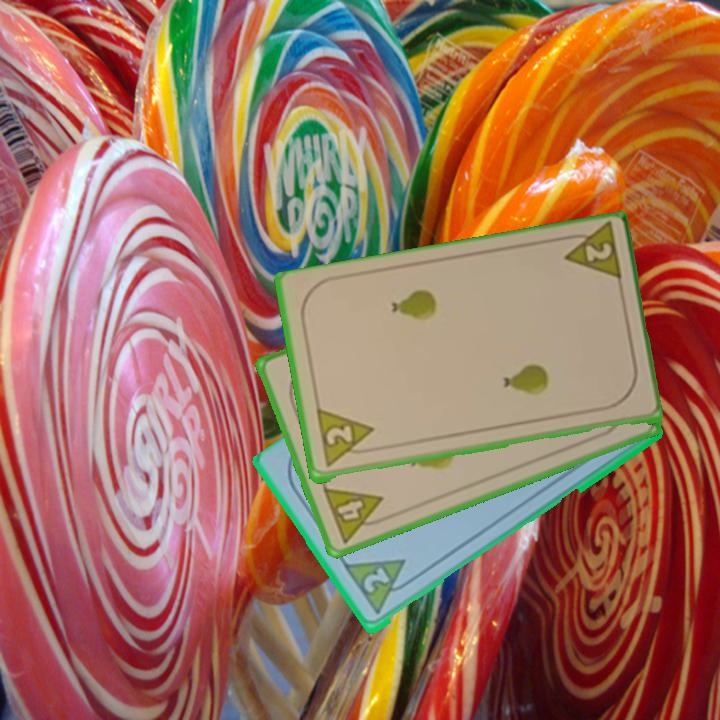2p: (555, 222, 624, 287), (312, 407, 379, 471), (359, 564, 393, 597)
4p: (319, 483, 393, 546)
